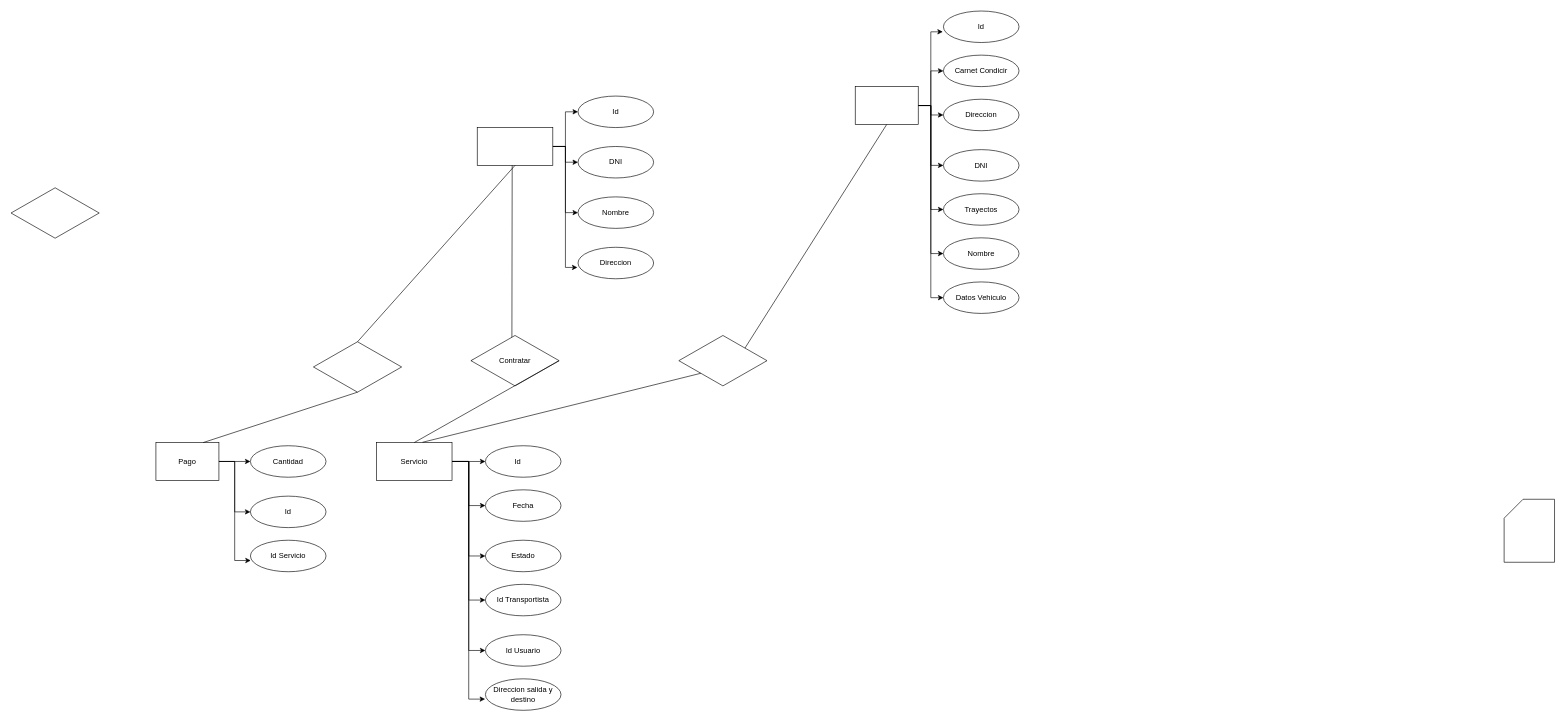
Image size: 1566x721. Some labels were removed from this diagram. The shapes that lost their labels are listed below. From the top down, each one's centre as x and y in pixels, then its label:
the point at 886,105: Transportista
the point at 515,146: Usuario
the point at 357,366: Pagar
the point at 722,360: Distribuye
